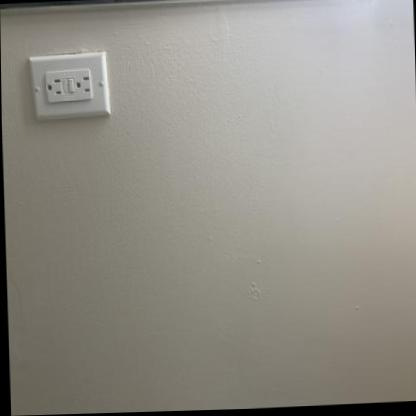OUTLET: (28, 51, 107, 123)
